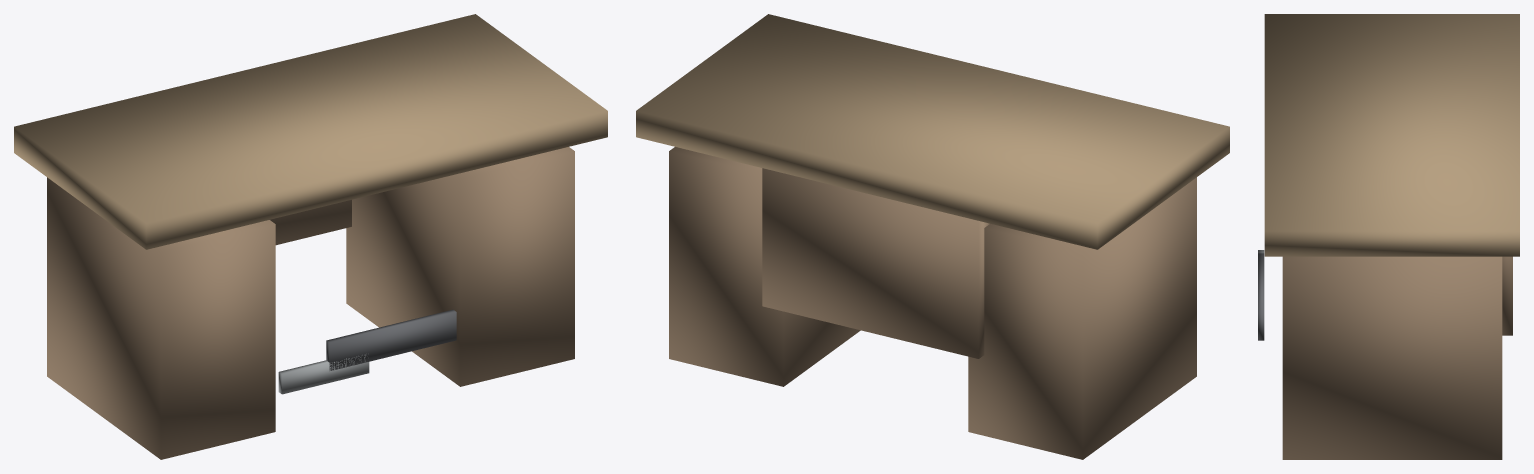
The model's file is office_desk__weathered.glb.
3 views of the same model, side by side, from view 1: azimuth 30°, elevation 25°; view 2: azimuth 150°, elevation 25°; view 3: azimuth 270°, elevation 25° (orthographic). The views are drawn at different scales.
Visible parts, largest first — view 1: world; view 2: world; view 3: world.
Part boxes in pixels (x1,y1,x2,y2): world: (14, 14, 607, 459); world: (636, 14, 1229, 459); world: (1258, 14, 1519, 459).
Size of the model in its own units: 1.45 by 0.7474 by 0.7391.
